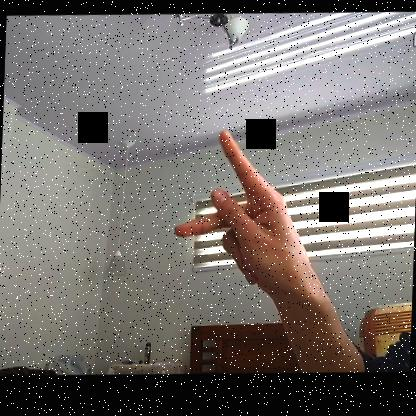K: (170, 125, 320, 299)
